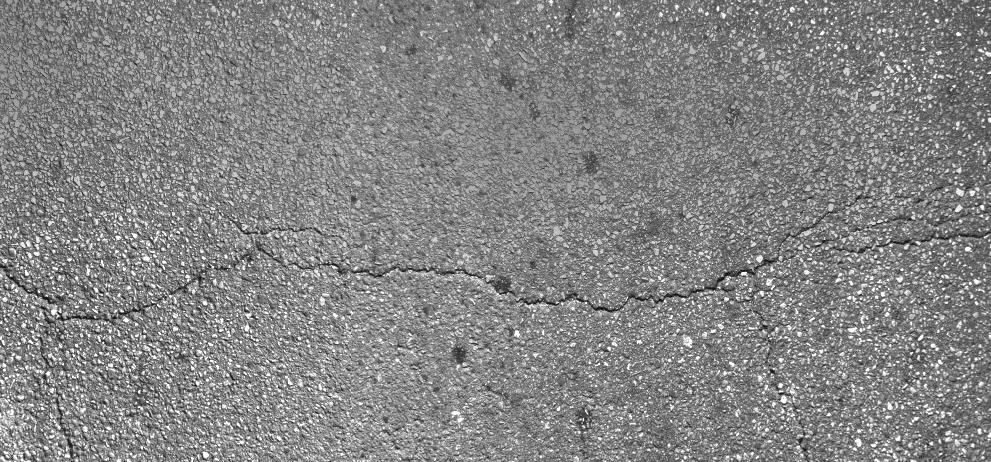crack: (78, 217, 991, 329), (43, 324, 75, 462), (0, 259, 72, 320)
